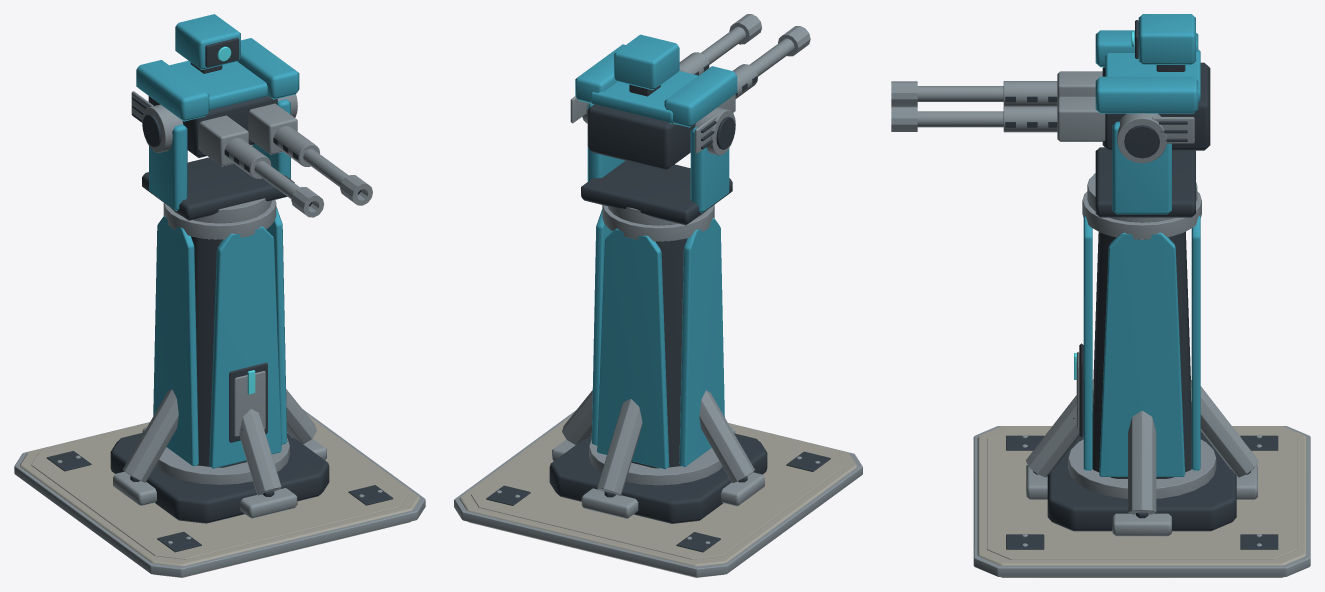
File: sentry-turret.glb
The picture shows the model from 3 angles, left to right: view 1: azimuth 30°, elevation 25°; view 2: azimuth 150°, elevation 25°; view 3: azimuth 270°, elevation 25°; orthographic projection. The views are drawn at different scales.
Visible parts, largest first — view 1: concrete-pad-top, column-owner-panel.001, column-owner-panel, tower-plinth, metal-pad-rim, technical-pad, column-core, head-yaw-deck, head-armored-shoulder, head-owner-cap, head-fork-cheek, brace-strut (+27 smaller); view 2: concrete-pad-top, column-owner-panel.003, column-owner-panel, tower-plinth, metal-pad-rim, head-yaw-deck, gun-breech, technical-pad, column-core, sensor-housing, head-armored-shoulder, brace-strut.003 (+20 smaller); view 3: concrete-pad-top, column-owner-panel.002, tower-plinth, technical-pad, metal-pad-rim, column-core, head-armored-shoulder.001, head-fork-cheek.001, head-yaw-deck, base-bearing, sensor-housing, brace-strut.002 (+25 smaller).
Boxes of the visible parts, x1,y1,x2,y2 form: concrete-pad-top: [31, 425, 408, 559]; column-owner-panel.001: [209, 226, 281, 468]; column-owner-panel: [153, 215, 198, 466]; tower-plinth: [110, 432, 329, 523]; metal-pad-rim: [14, 409, 425, 577]; technical-pad: [20, 414, 419, 577]; column-core: [191, 236, 246, 467]; head-yaw-deck: [142, 157, 294, 220]; head-armored-shoulder: [136, 60, 209, 121]; head-owner-cap: [169, 60, 268, 110]; head-fork-cheek: [149, 124, 187, 210]; brace-strut: [123, 389, 178, 482]; concrete-pad-top: [471, 426, 845, 559]; column-owner-panel.003: [597, 228, 669, 469]; column-owner-panel: [679, 217, 724, 466]; tower-plinth: [549, 433, 767, 523]; metal-pad-rim: [454, 410, 862, 577]; head-yaw-deck: [581, 160, 732, 225]; gun-breech: [587, 104, 695, 170]; technical-pad: [459, 415, 857, 577]; column-core: [631, 238, 686, 468]; sensor-housing: [614, 34, 679, 90]; head-armored-shoulder: [664, 66, 737, 127]; brace-strut.003: [597, 399, 642, 495]; concrete-pad-top: [987, 428, 1297, 559]; column-owner-panel.002: [1099, 232, 1185, 476]; tower-plinth: [1047, 431, 1236, 531]; technical-pad: [977, 426, 1306, 577]; metal-pad-rim: [973, 426, 1310, 576]; column-core: [1092, 231, 1191, 478]; head-armored-shoulder.001: [1095, 76, 1198, 113]; head-fork-cheek.001: [1112, 121, 1171, 214]; head-yaw-deck: [1095, 147, 1195, 217]; base-bearing: [1068, 439, 1216, 498]; sensor-housing: [1138, 14, 1195, 64]; brace-strut.002: [1128, 411, 1156, 514].
Size of the model in its own units: 1.41 by 2.25 by 1.75.
